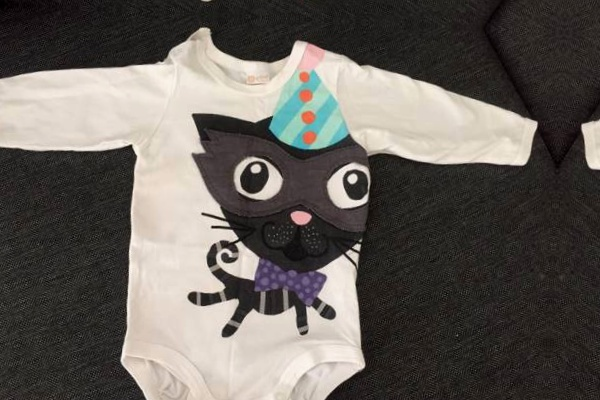Body: (0, 19, 551, 400), (557, 49, 600, 400), (0, 0, 572, 15), (578, 0, 600, 45)
